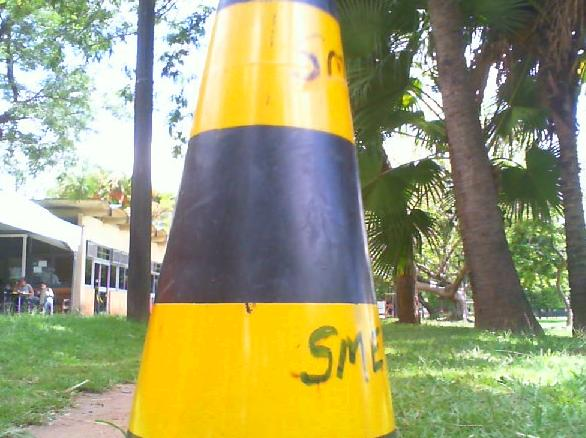0 cone: (117, 0, 402, 438)
